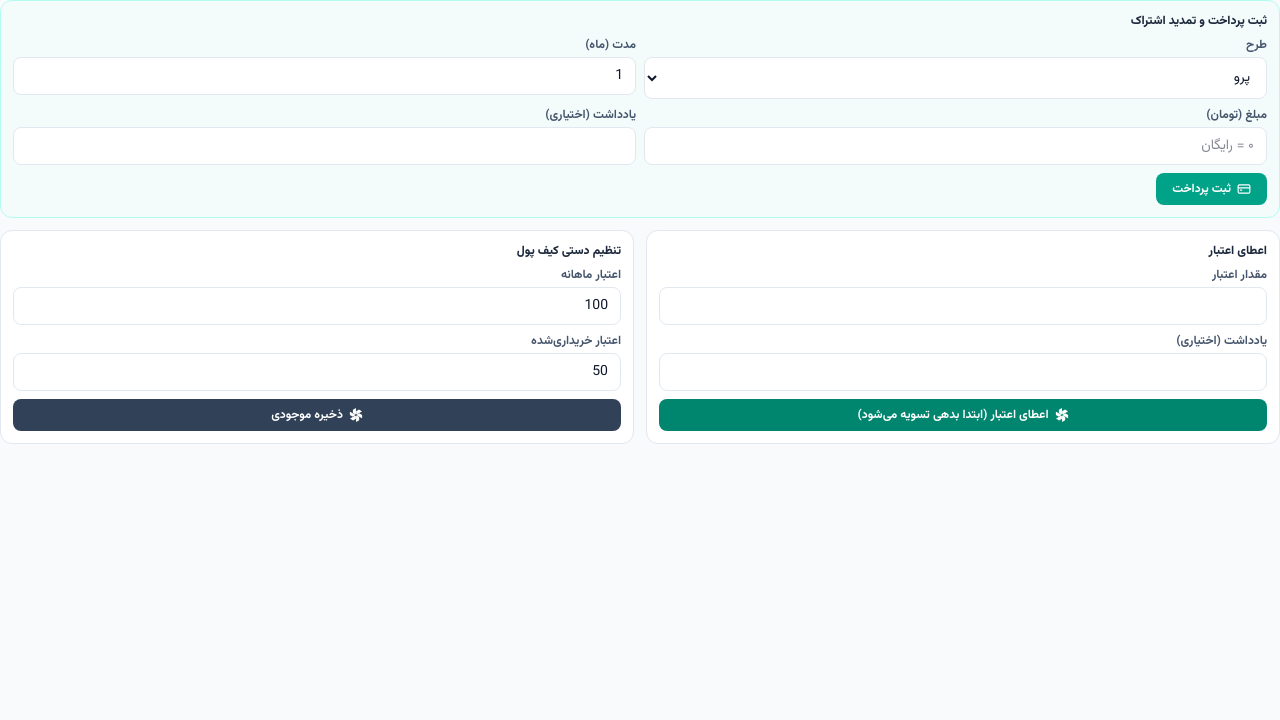
Test: [component] BillingForms › validates duration before recording payment
Replace the text in the number field below "مدت (ماه)" with "0" at (324, 76), box [13,57,636,95]
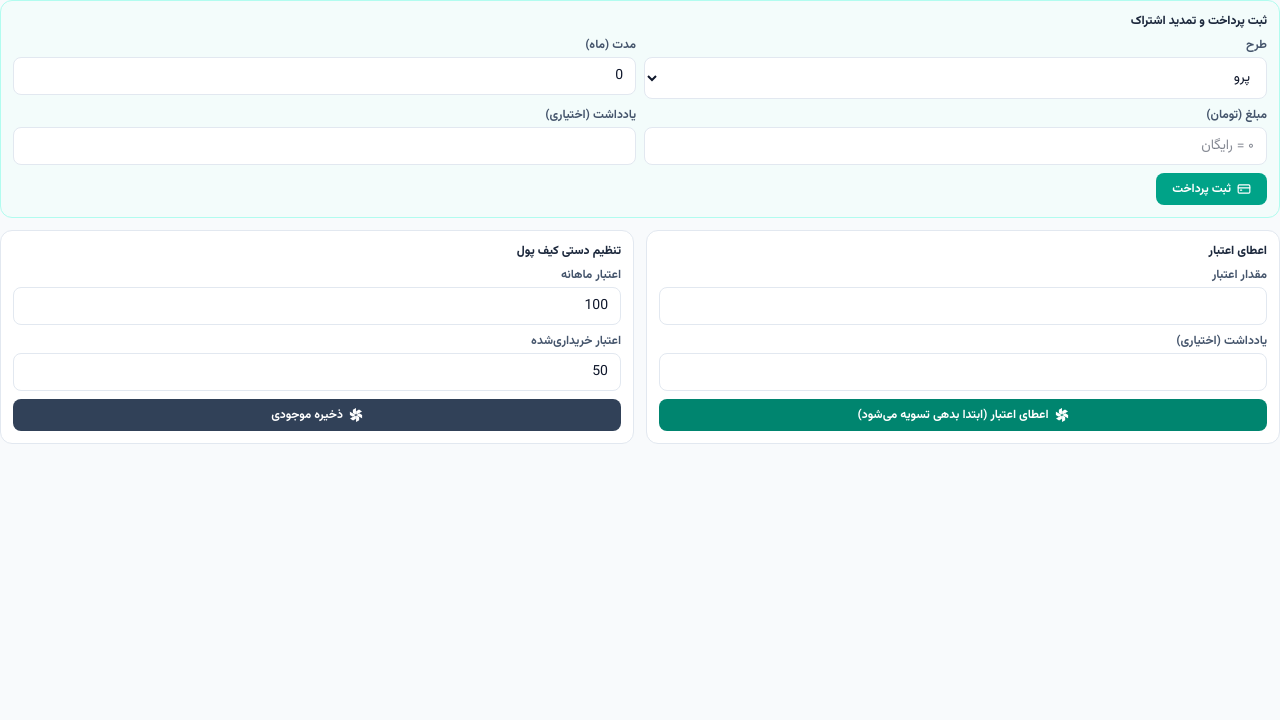
Click the button "ثبت پرداخت" at (1212, 189), box [1156,173,1267,205]
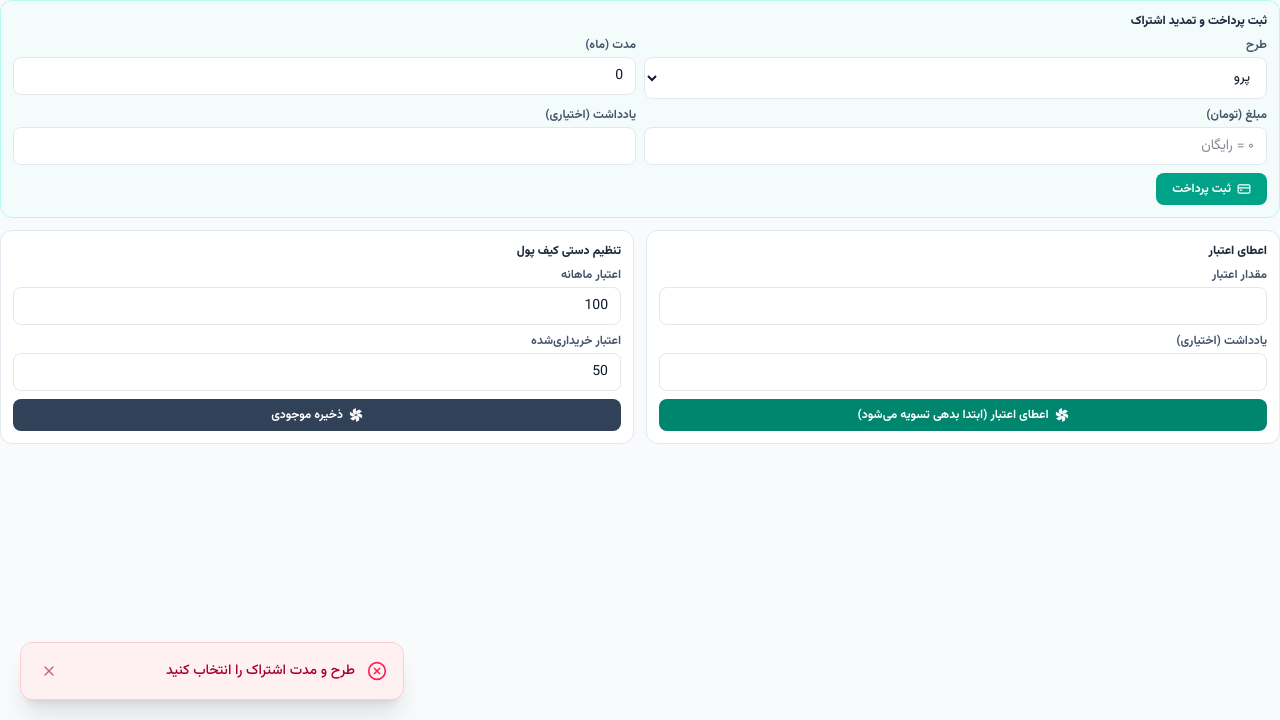
Expected: the text "طرح و مدت اشتراک را انتخاب کنید" is shown, [166,661,355,681]
